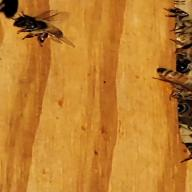Bee: (6, 12, 82, 51), (149, 65, 192, 88)
